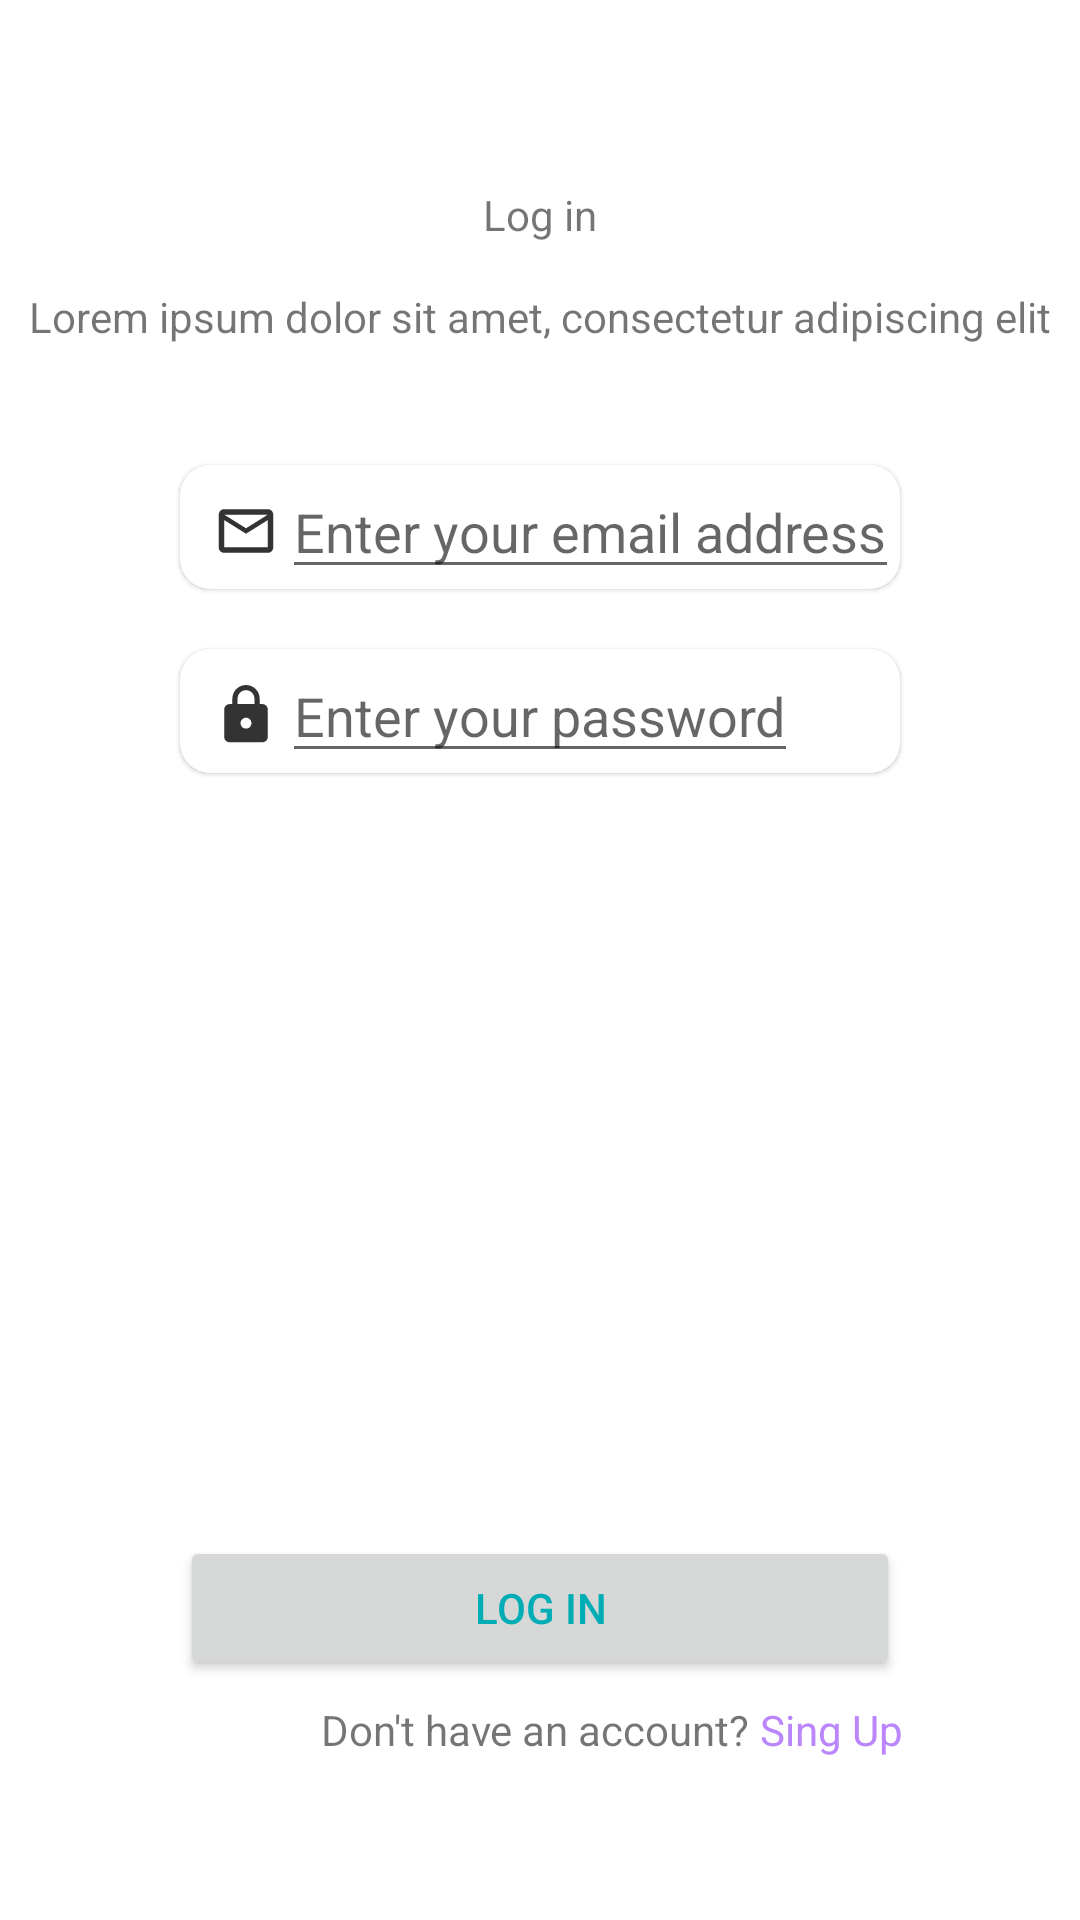

Point at icon controls on the screen. Image size 1080*1920, points as (x=x, y=y).
lock: (x=246, y=714)
